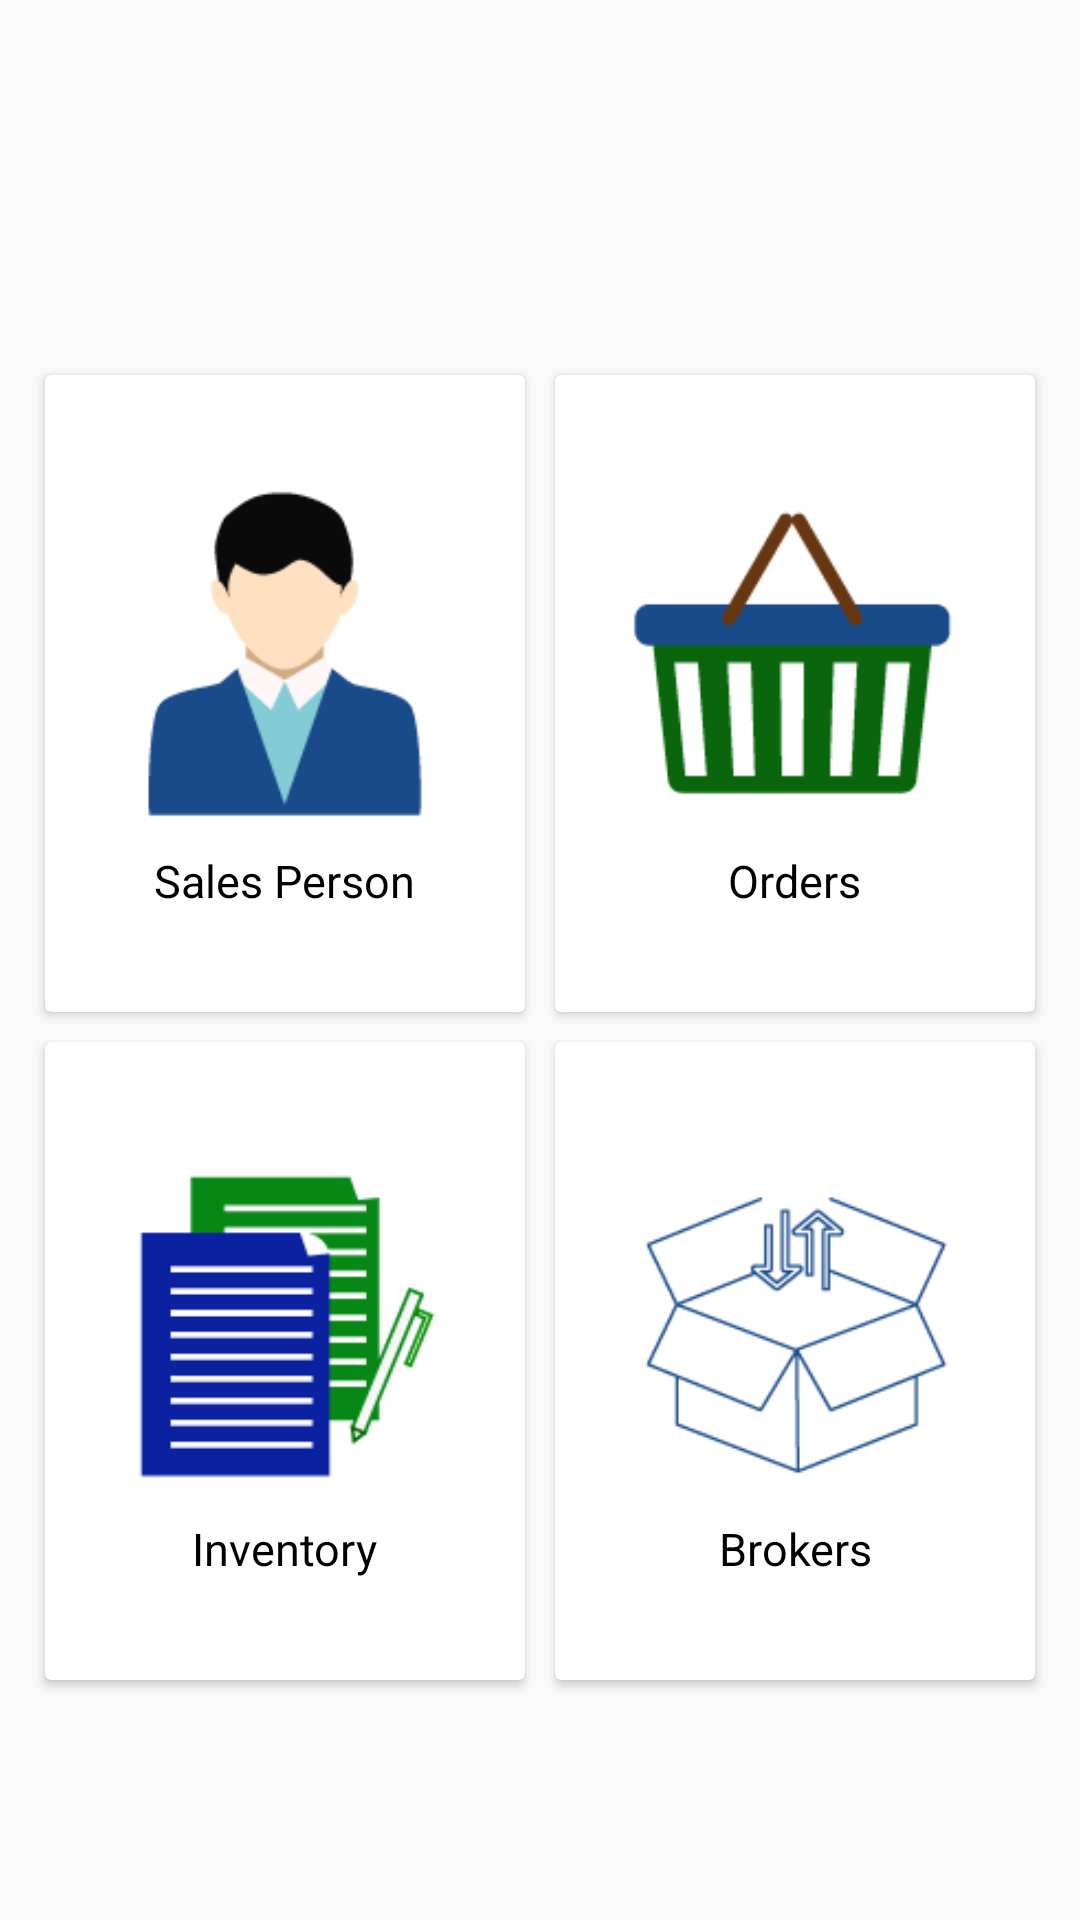

Icon bounding boxes for this 1080*1920 phone screenshot, format BBox(x1, y1, x2, y2):
basket: BBox(634, 512, 951, 794)
sales manager: BBox(148, 492, 422, 816)
